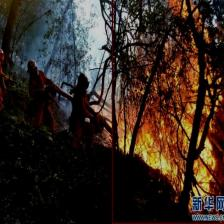fire: (111, 0, 224, 224)
